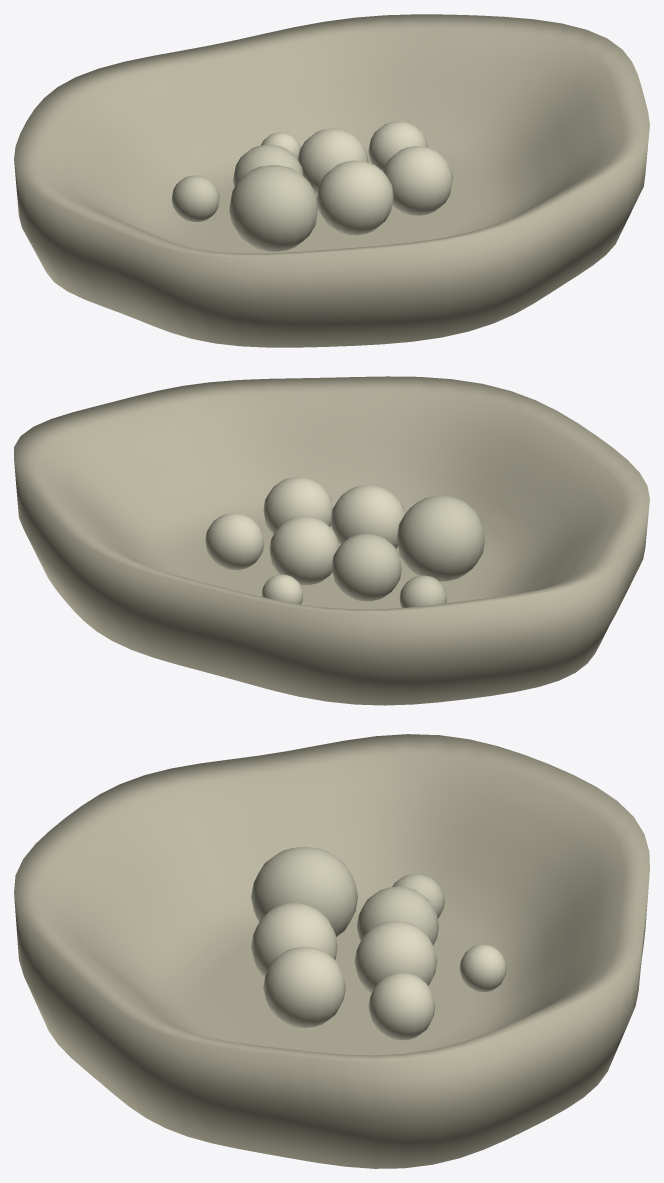
File: cave-pearl-pool.glb
3 renders of one model, top to bottom at view 1: azimuth 30°, elevation 25°; view 2: azimuth 150°, elevation 25°; view 3: azimuth 270°, elevation 25°, orthographic. The views are drawn at different scales.
Visible parts, largest first — view 1: one-continuous-shallow-mineral-cup, eight-discrete-unequal-rounded-mineral-concretions; view 2: one-continuous-shallow-mineral-cup, eight-discrete-unequal-rounded-mineral-concretions; view 3: one-continuous-shallow-mineral-cup, eight-discrete-unequal-rounded-mineral-concretions.
Boxes of the visible parts, x1,y1,x2,y2 form: one-continuous-shallow-mineral-cup: (14, 14, 649, 347); eight-discrete-unequal-rounded-mineral-concretions: (171, 121, 452, 251); one-continuous-shallow-mineral-cup: (14, 376, 649, 705); eight-discrete-unequal-rounded-mineral-concretions: (205, 477, 484, 607); one-continuous-shallow-mineral-cup: (14, 734, 649, 1168); eight-discrete-unequal-rounded-mineral-concretions: (251, 846, 506, 1040).
Bounding box in the file's own units: 0.38 × 0.0661 × 0.3084.
